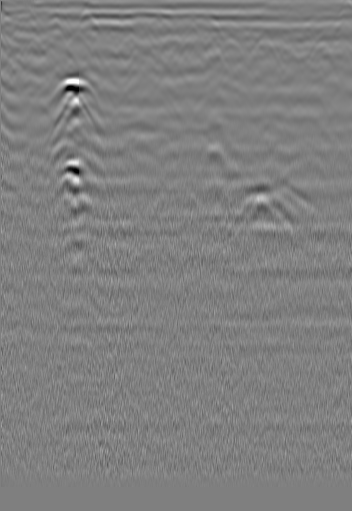가스: (53, 157, 87, 188)
상수: (310, 40, 330, 60)
오수: (15, 6, 35, 26)
우수: (140, 25, 160, 45)
